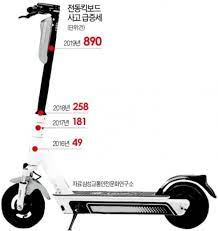kick_body: (62, 190, 160, 213)
kick_handler: (19, 3, 61, 20)
kick_wheel: (162, 181, 209, 229), (2, 181, 45, 229)
